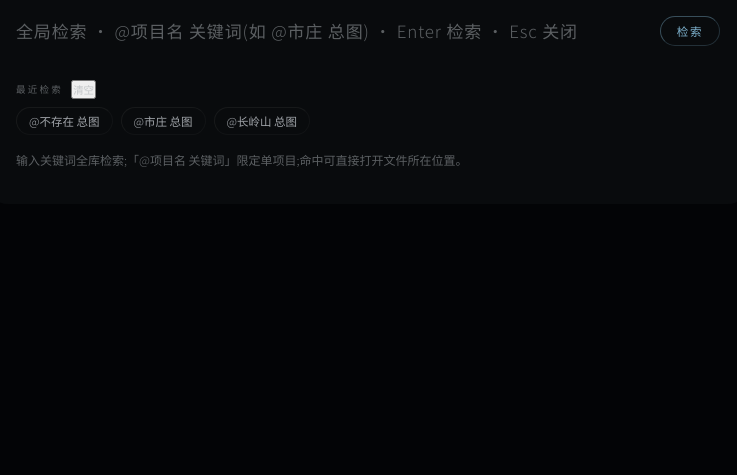
GlobalSearch 交互 › 命中按类型分组;缺失卡无打开/复制路径按钮(不假按钮)
The image size is (737, 475).
Type "总图" into the field.
click(332, 31); type("总图")  # box [16,18,648,43]
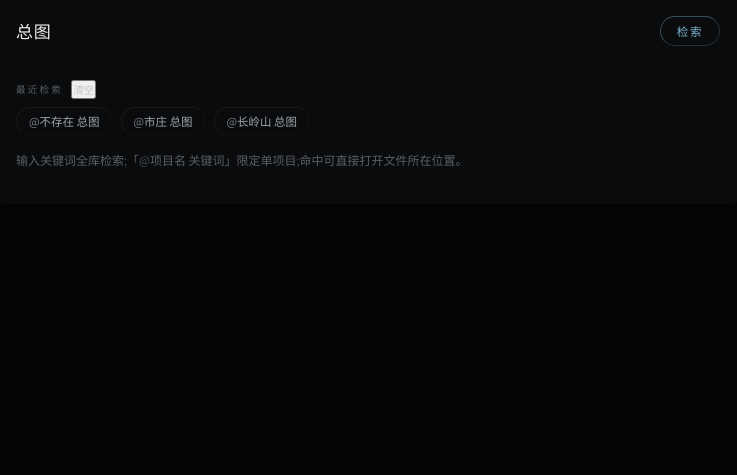
Press Enter in the field, box [16,18,648,43]
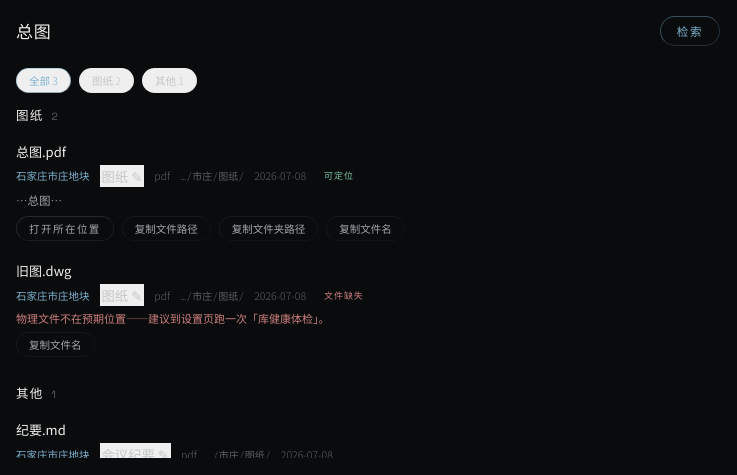
Check: the text "图纸" is shown, box [16,105,44,124]
Check: the button "会议纪要 ✎" is shown, box [100,444,171,458]
Check: the number of buttons "打开所在位置" is 1, box [16,216,114,242]
